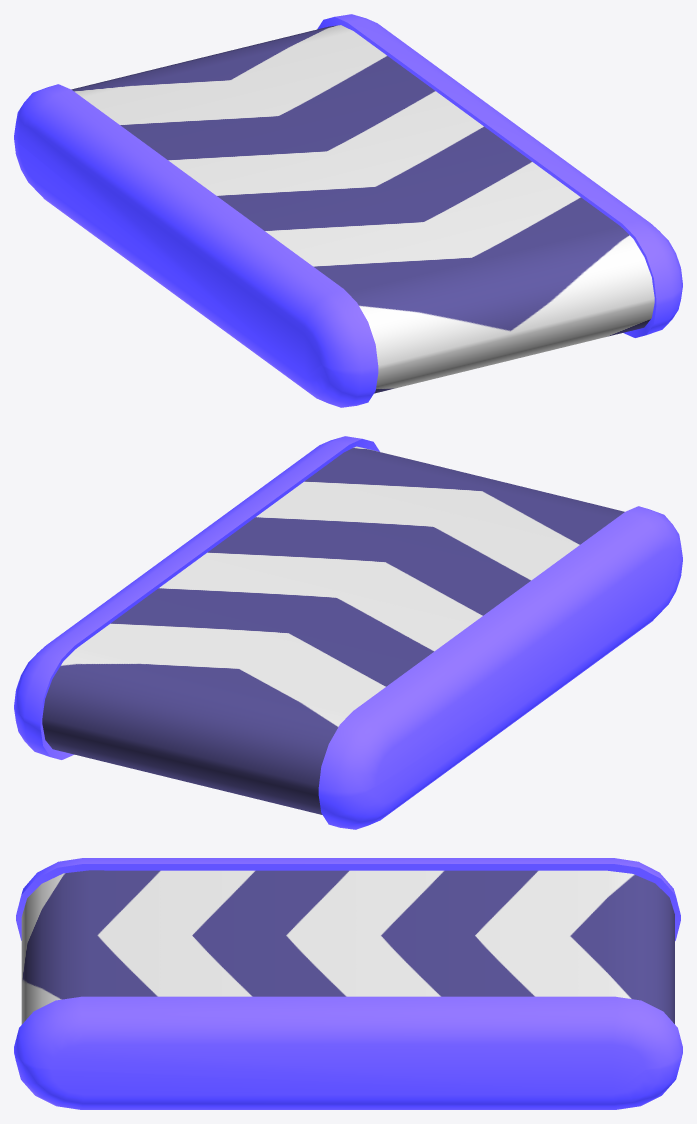
File: BoostBand.fbx
3 views of the same model, one above another, from view 1: azimuth 30°, elevation 25°; view 2: azimuth 150°, elevation 25°; view 3: azimuth 270°, elevation 25° (orthographic). The views are drawn at different scales.
Parts seen in each view (by area): view 1: TextuerPlane, BoostBand; view 2: TextuerPlane, BoostBand; view 3: TextuerPlane, BoostBand.
Part boxes in pixels (bbox=[...]): TextuerPlane: bbox=[71, 25, 654, 393]; BoostBand: bbox=[14, 14, 682, 407]; TextuerPlane: bbox=[42, 446, 624, 814]; BoostBand: bbox=[14, 436, 682, 829]; TextuerPlane: bbox=[21, 870, 674, 1024]; BoostBand: bbox=[14, 858, 682, 1109].
Size of the model in its own units: 239 by 71.27 by 398.
Materials: 2 (1 with a texture image).
